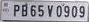character: (13, 4, 20, 17), (21, 4, 28, 17), (37, 4, 44, 17), (55, 4, 62, 17), (63, 4, 70, 17), (71, 5, 78, 18), (78, 5, 85, 18), (30, 4, 36, 17), (47, 4, 53, 17)
